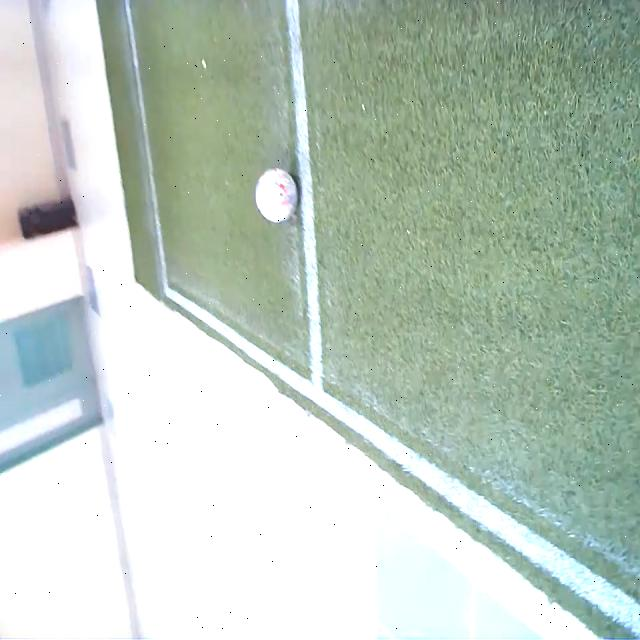ball: (255, 168, 297, 223)
